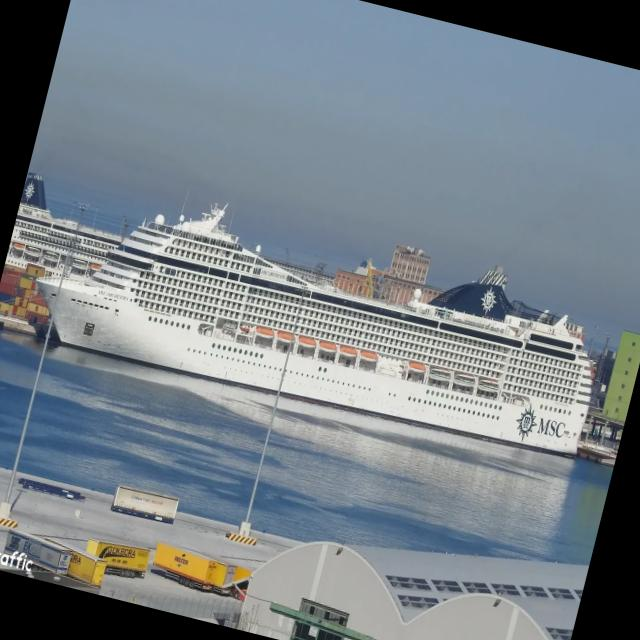Cruise: (39, 205, 591, 456)
